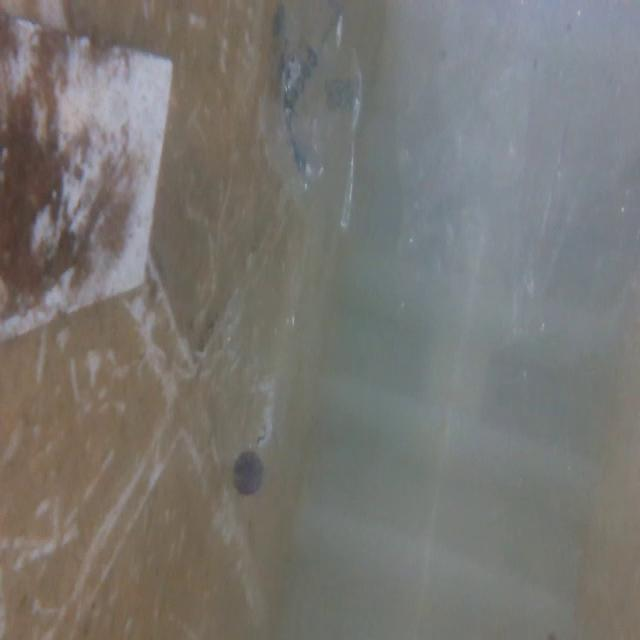metal: (0, 5, 179, 352)
plastic bags: (384, 0, 640, 424), (254, 0, 379, 251)
plastic bottle: (208, 305, 304, 558)
